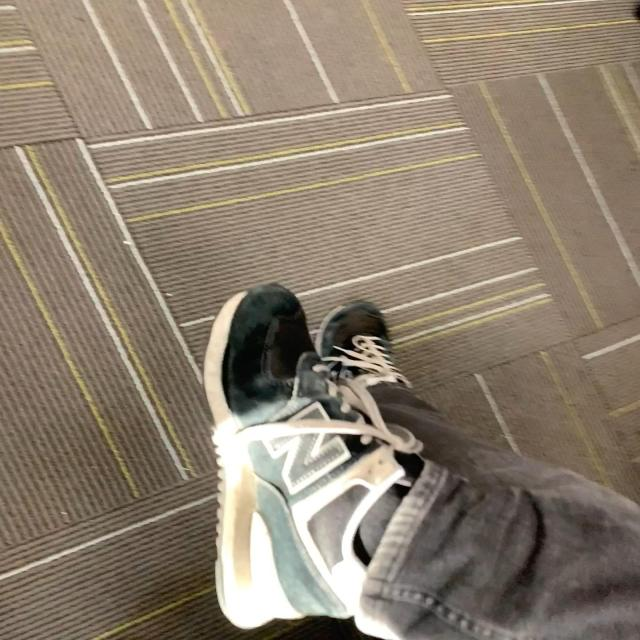shoe: (204, 284, 409, 631)
